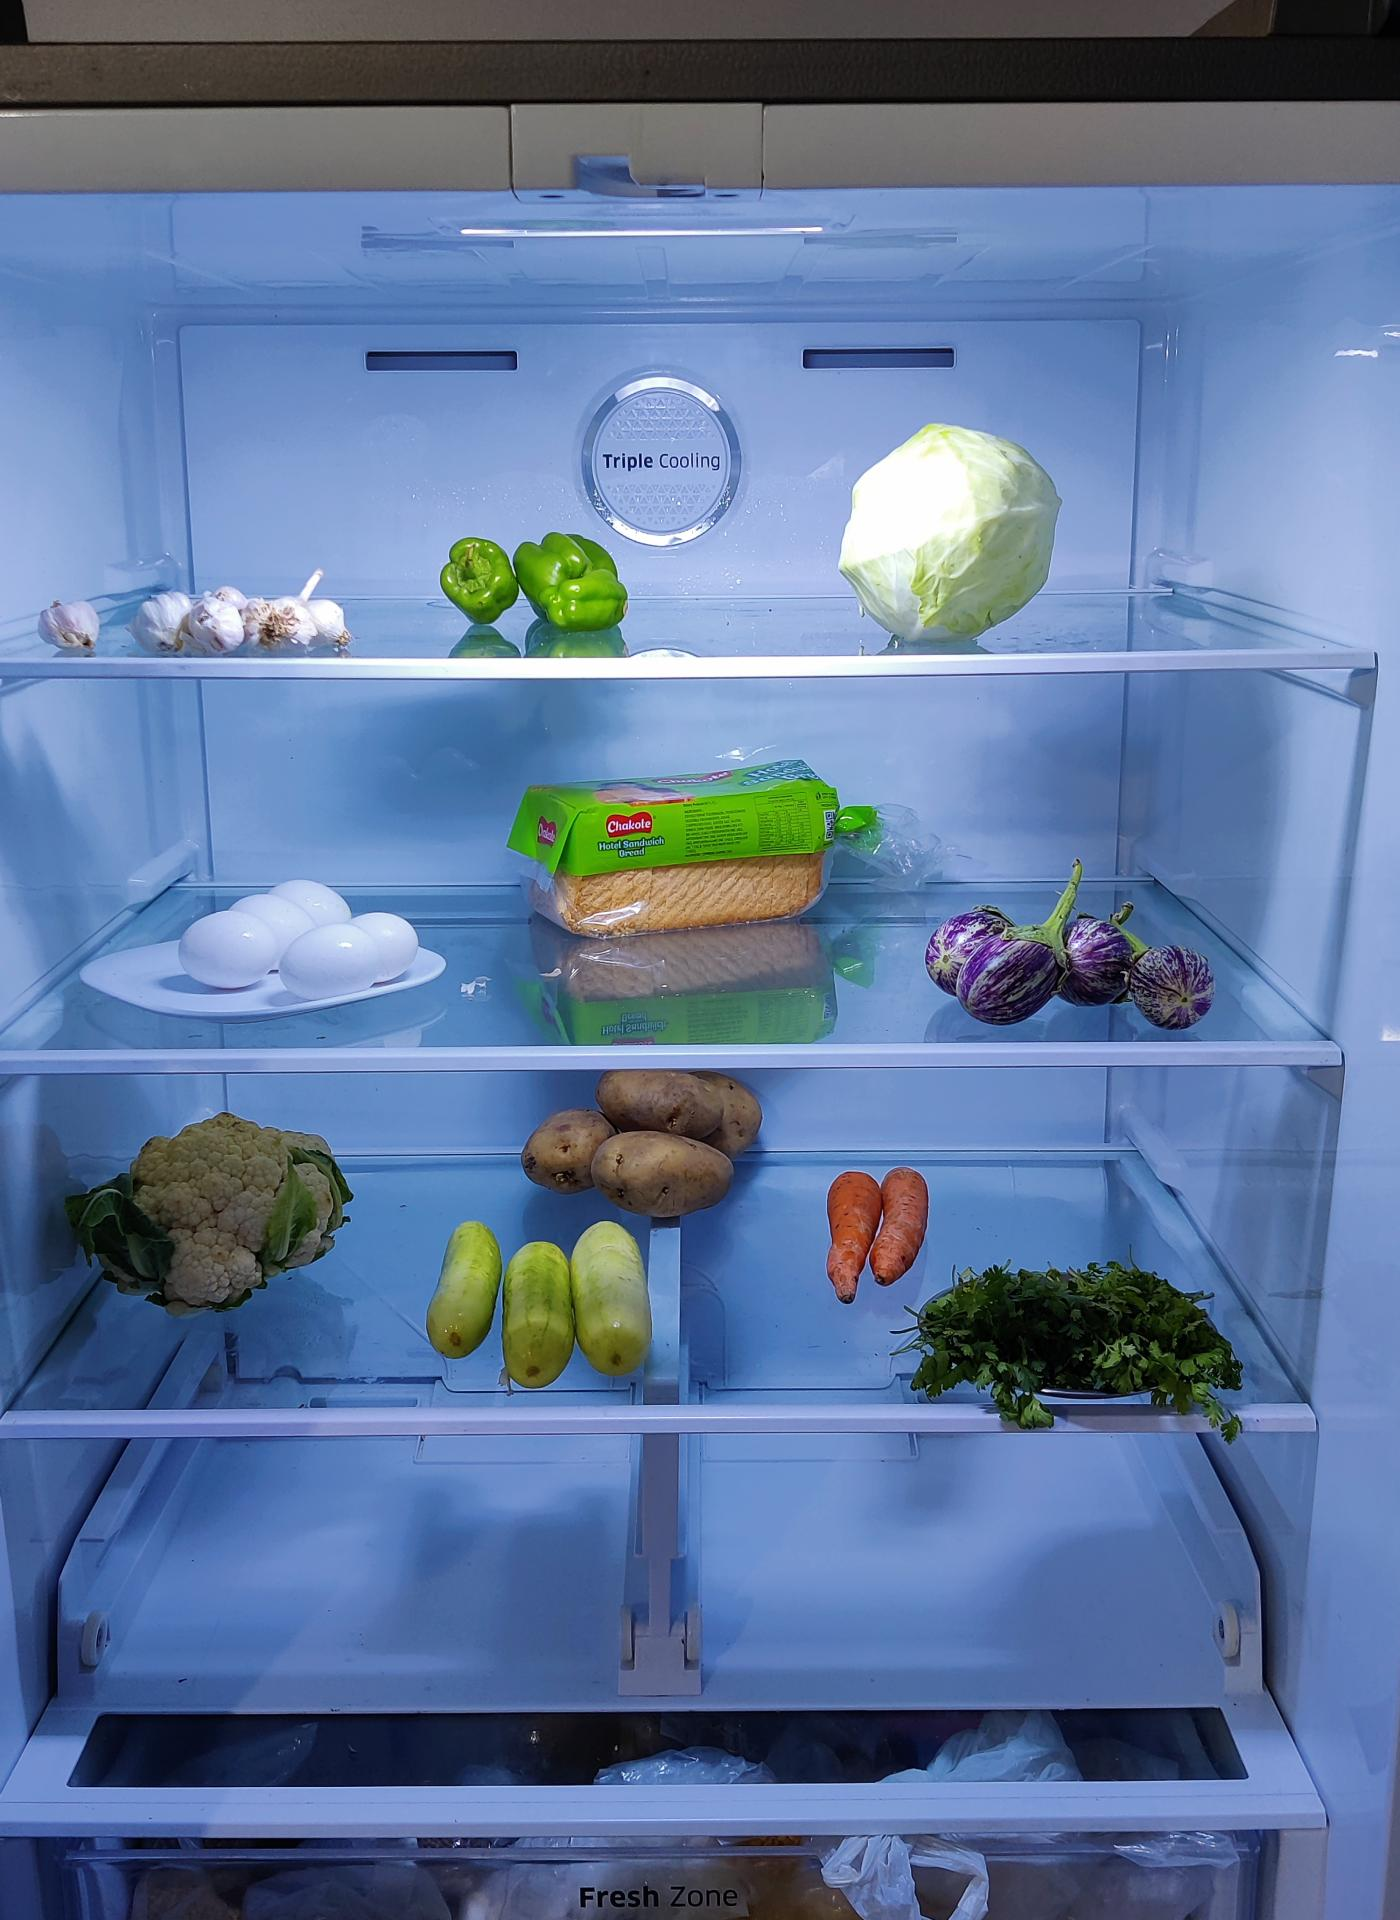bread: (510, 759, 857, 939)
brinjal: (525, 1064, 778, 1219), (926, 900, 1218, 1026)
cabbage: (838, 426, 1059, 647)
capsicum: (441, 528, 634, 640)
carrots: (820, 1163, 927, 1303)
cauliflower: (69, 1112, 347, 1319)
coriander: (902, 1258, 1232, 1413)
cucumber: (426, 1212, 663, 1392)
egg: (183, 880, 431, 1009)
garlic: (146, 569, 355, 662)
